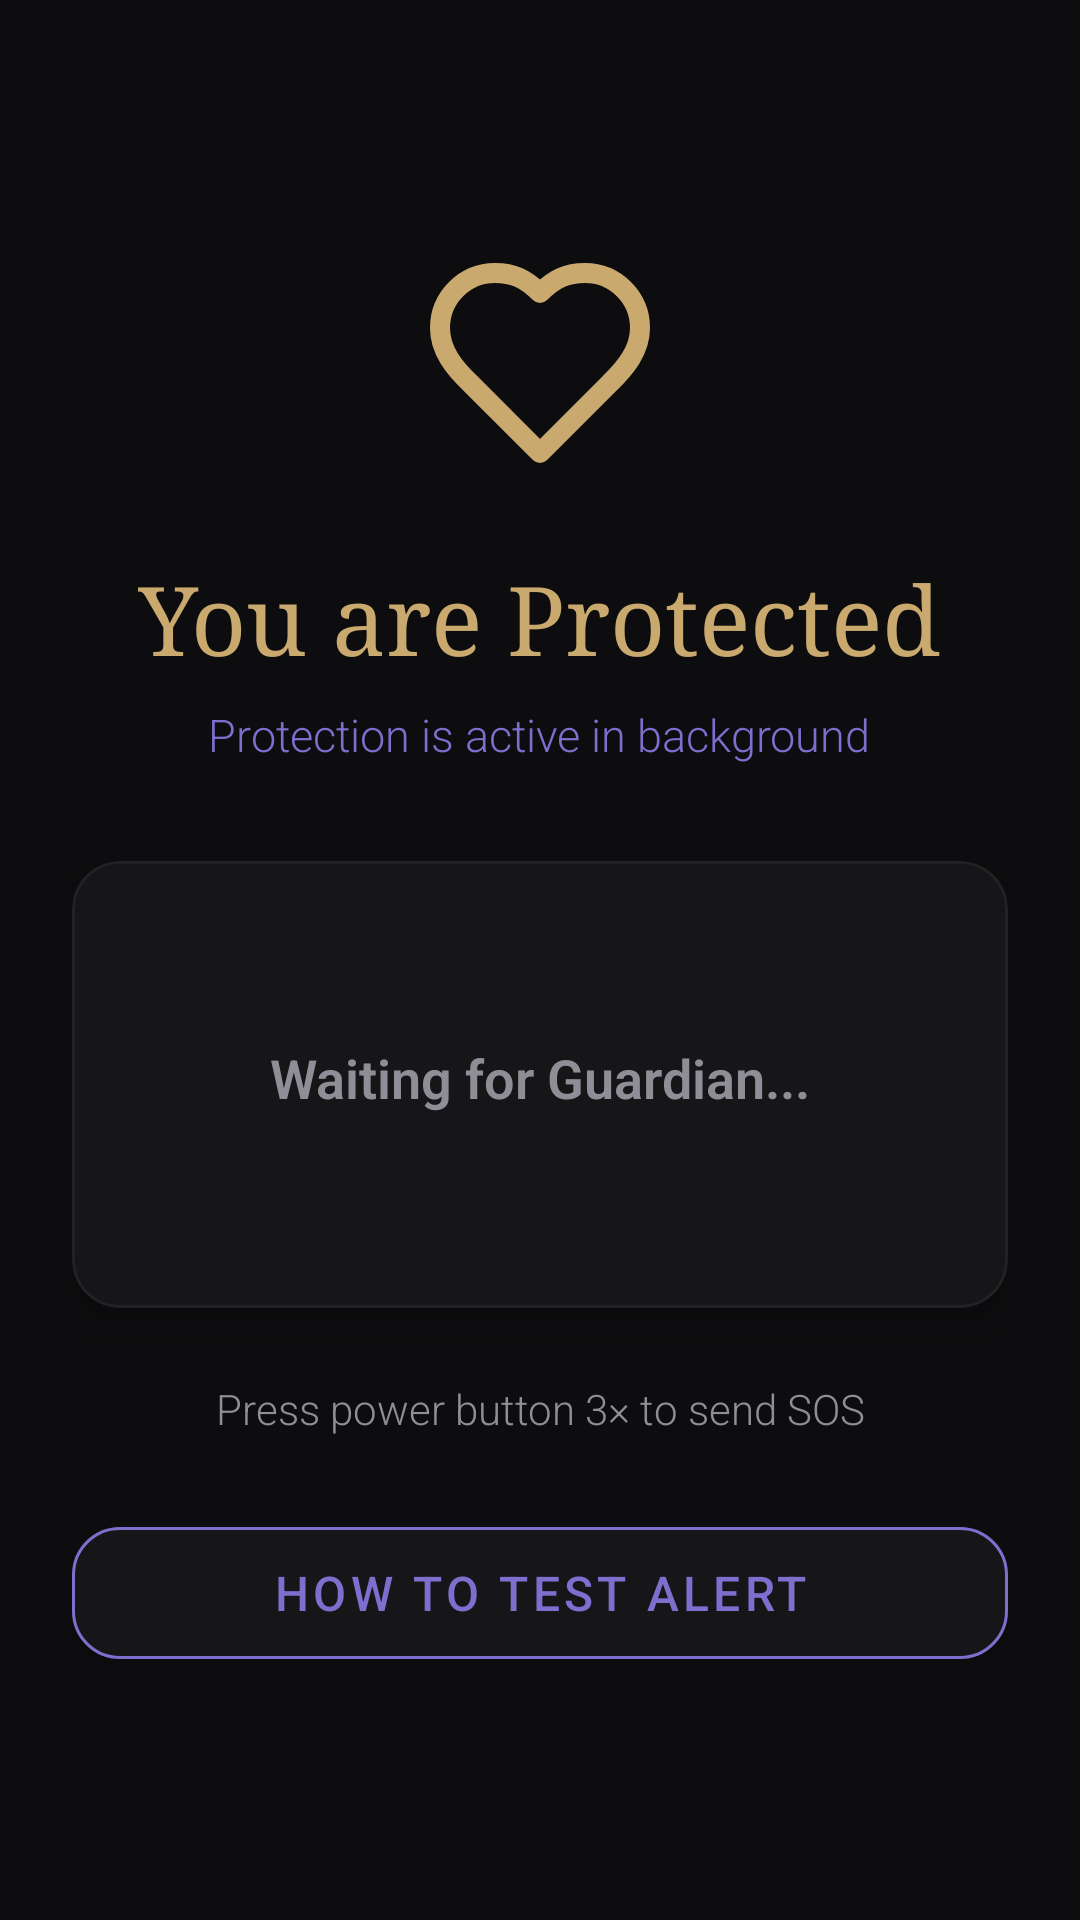

Screen size 1080 × 1920. Icon name, then its box in pixels as (x1, y1, x2, y2):
heart vlynxly: (430, 263, 650, 463)
